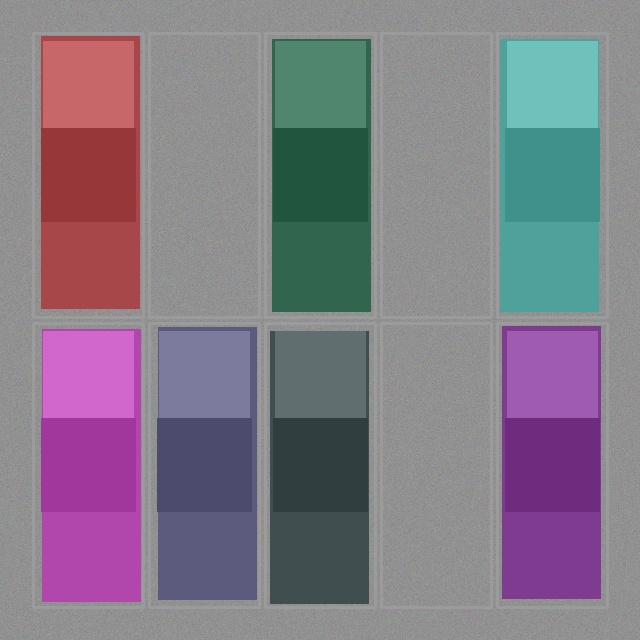space-empty: (151, 35, 257, 315), (383, 35, 489, 315), (383, 325, 489, 605)
space-occupied: (35, 35, 141, 315), (267, 35, 373, 315), (499, 35, 605, 315), (35, 325, 141, 605), (151, 325, 257, 605), (267, 325, 373, 605), (499, 325, 605, 605)
